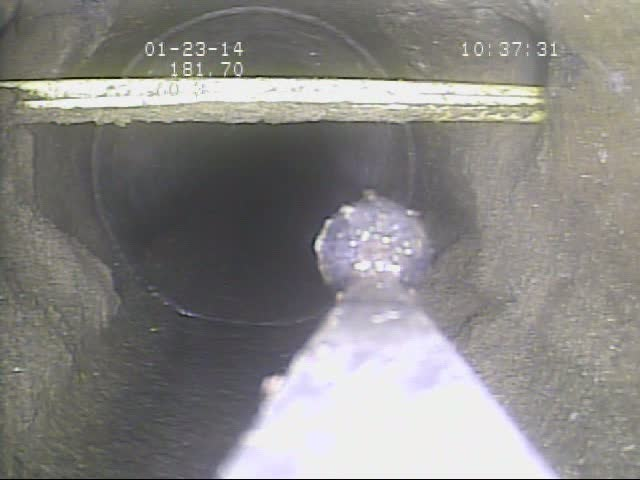cb: (4, 71, 576, 142)
